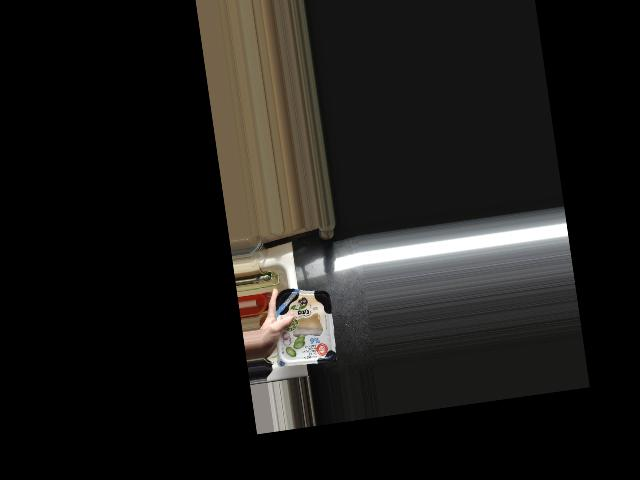cheese: (268, 283, 338, 366)
